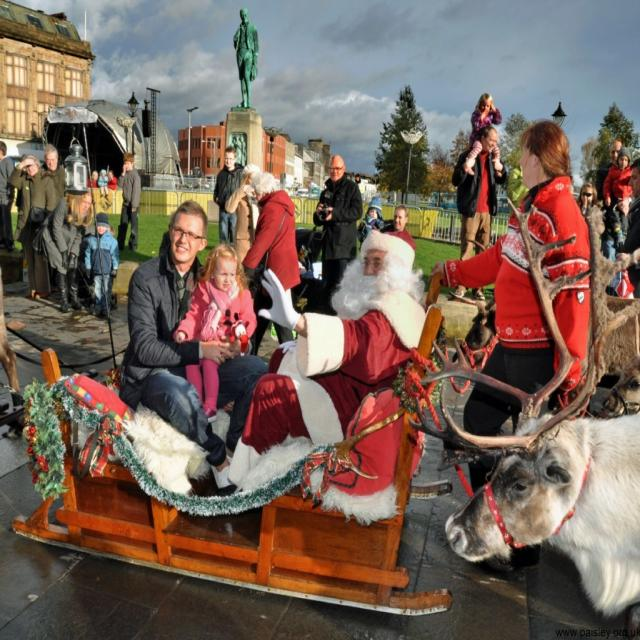Deer: (406, 198, 639, 615)
